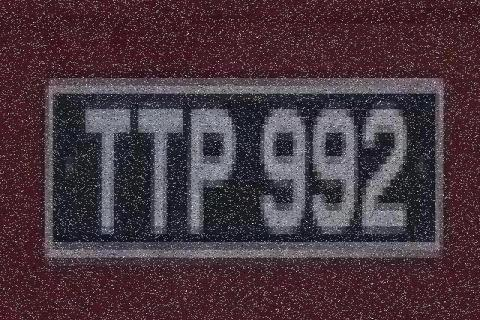LicensePlate: (42, 76, 446, 256)
